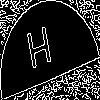H: (25, 25, 55, 79)
